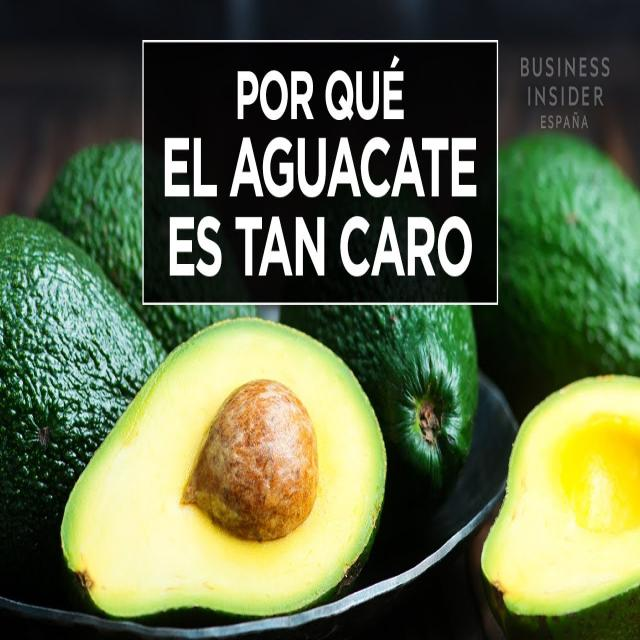aguacate: (56, 312, 392, 631)
